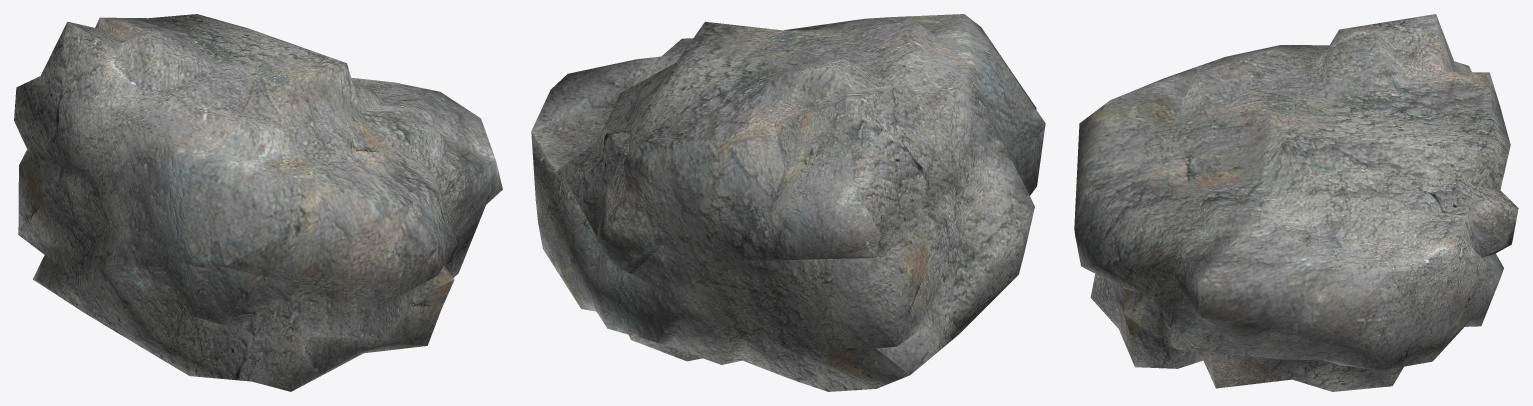
The model's file is rock6.glb.
3 renders of one model, left to right at view 1: azimuth 30°, elevation 25°; view 2: azimuth 150°, elevation 25°; view 3: azimuth 270°, elevation 25°, orthographic. The views are drawn at different scales.
Parts seen in each view (by area): view 1: rock6; view 2: rock6; view 3: rock6.
Boxes of the visible parts, <box> form: rock6: <box>14,14,502,391</box>; rock6: <box>531,14,1045,391</box>; rock6: <box>1074,14,1518,391</box>.
Bounding box in the file's own units: 4.41 × 3.04 × 4.41.
Materials: 1 (1 with a texture image).
